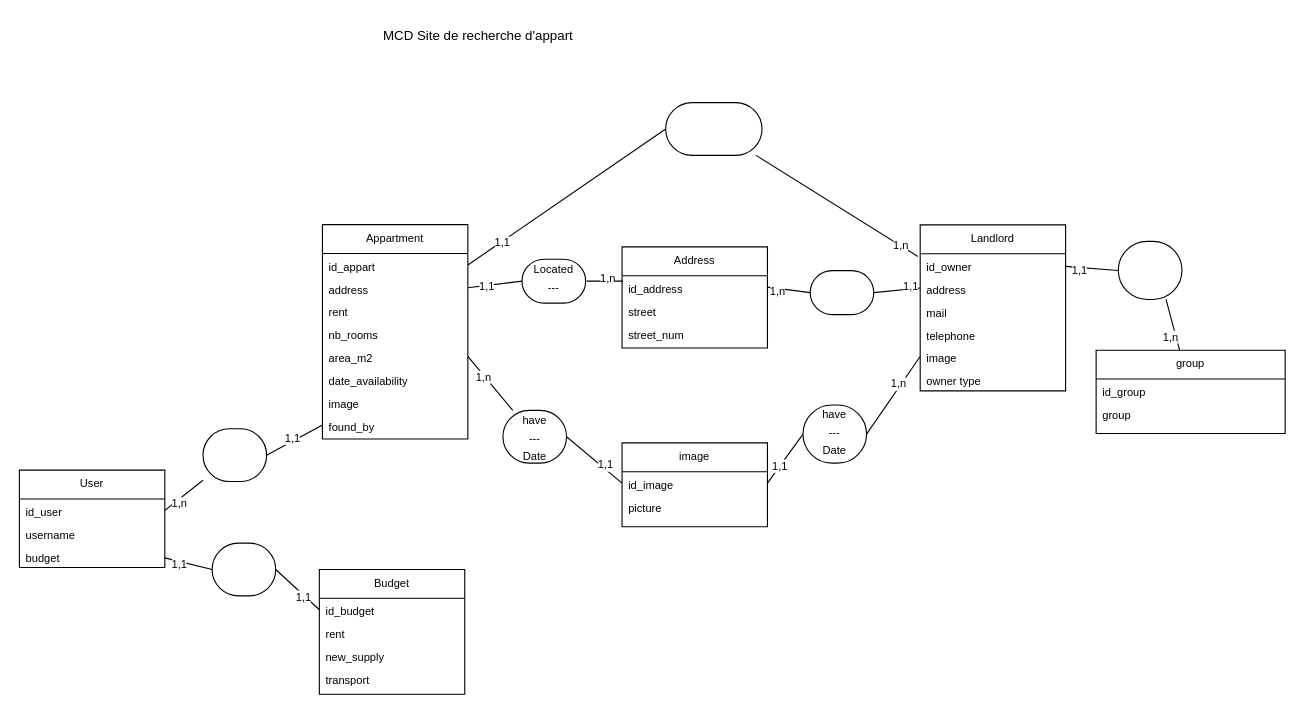
Some shapes in this 1305 by 714 pixel diagram are drawn without their labels. The shapes that lost their labels are listed below. From the top down, each one's centre as x and y in pixels, then its label:
At (x=713, y=128): "proposed_by --- Date".
At (x=1149, y=269): "Is ---".
At (x=841, y=292): "Lives ---".
At (x=234, y=455): "Found --- Date".
At (x=243, y=569): "supply --- Date".
